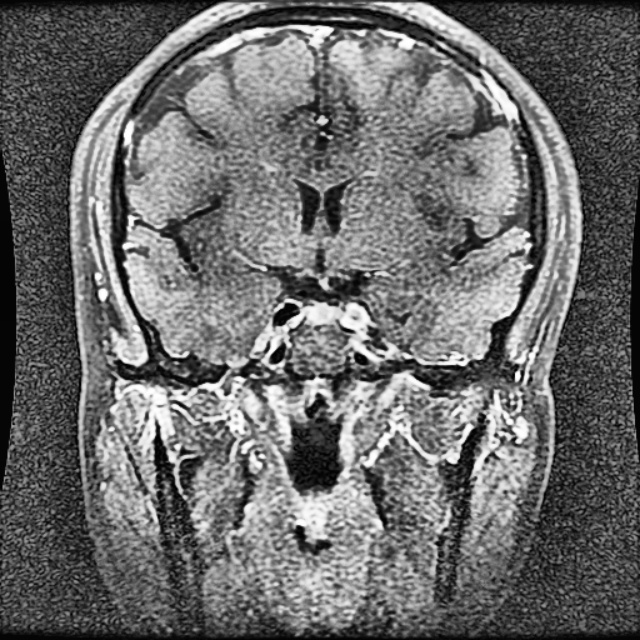Pituitary: (300, 304, 348, 323)
